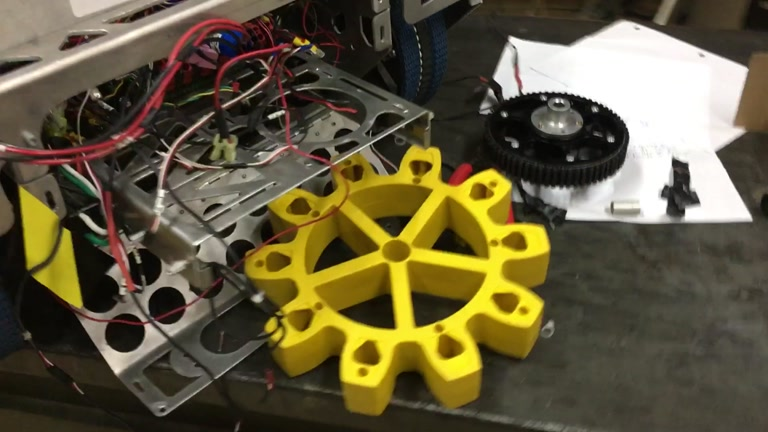gear: (244, 145, 551, 417)
